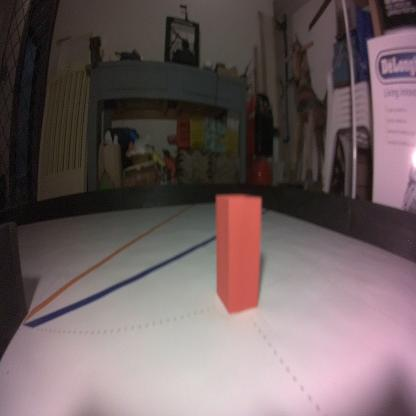red: (212, 189, 264, 316)
